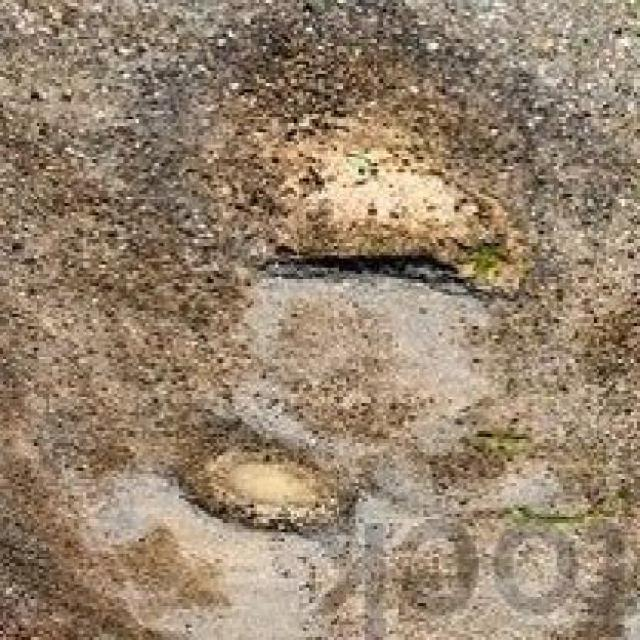pothole: (247, 138, 541, 314), (177, 418, 365, 544)
